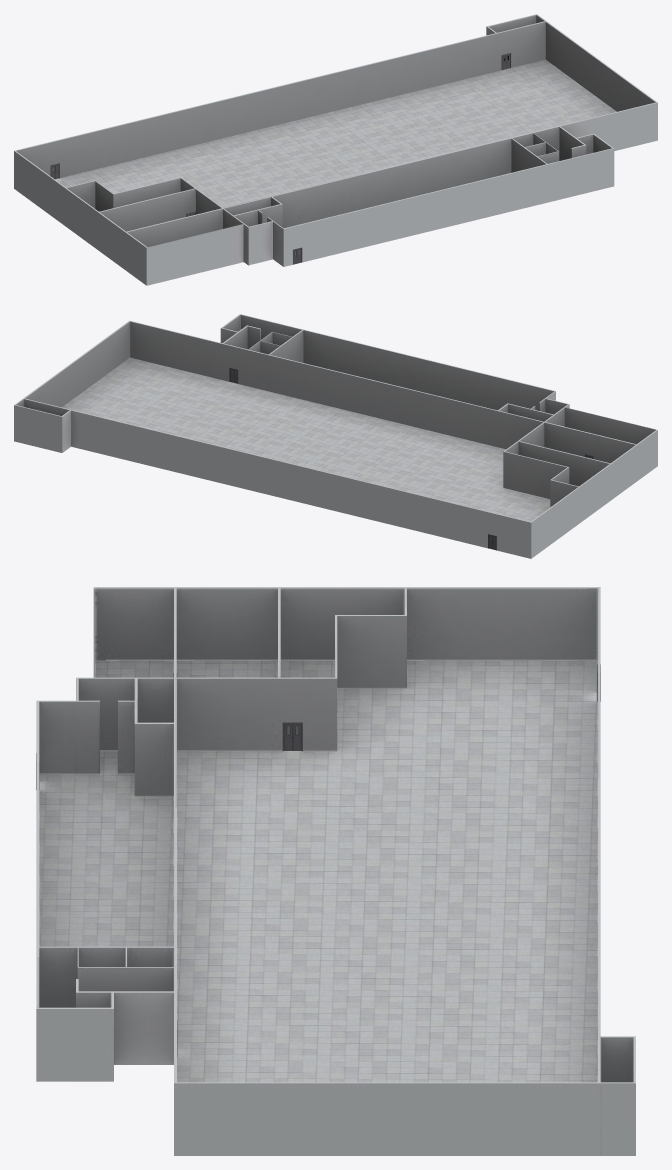
Rendered from LXWZ_5-1F.glb.
The picture shows the model from 3 angles, top to bottom: view 1: azimuth 30°, elevation 25°; view 2: azimuth 150°, elevation 25°; view 3: azimuth 270°, elevation 25°; orthographic projection. The views are drawn at different scales.
Size of the model in its own units: 90 by 6.13 by 46.
Materials: 2 (2 with a texture image).
